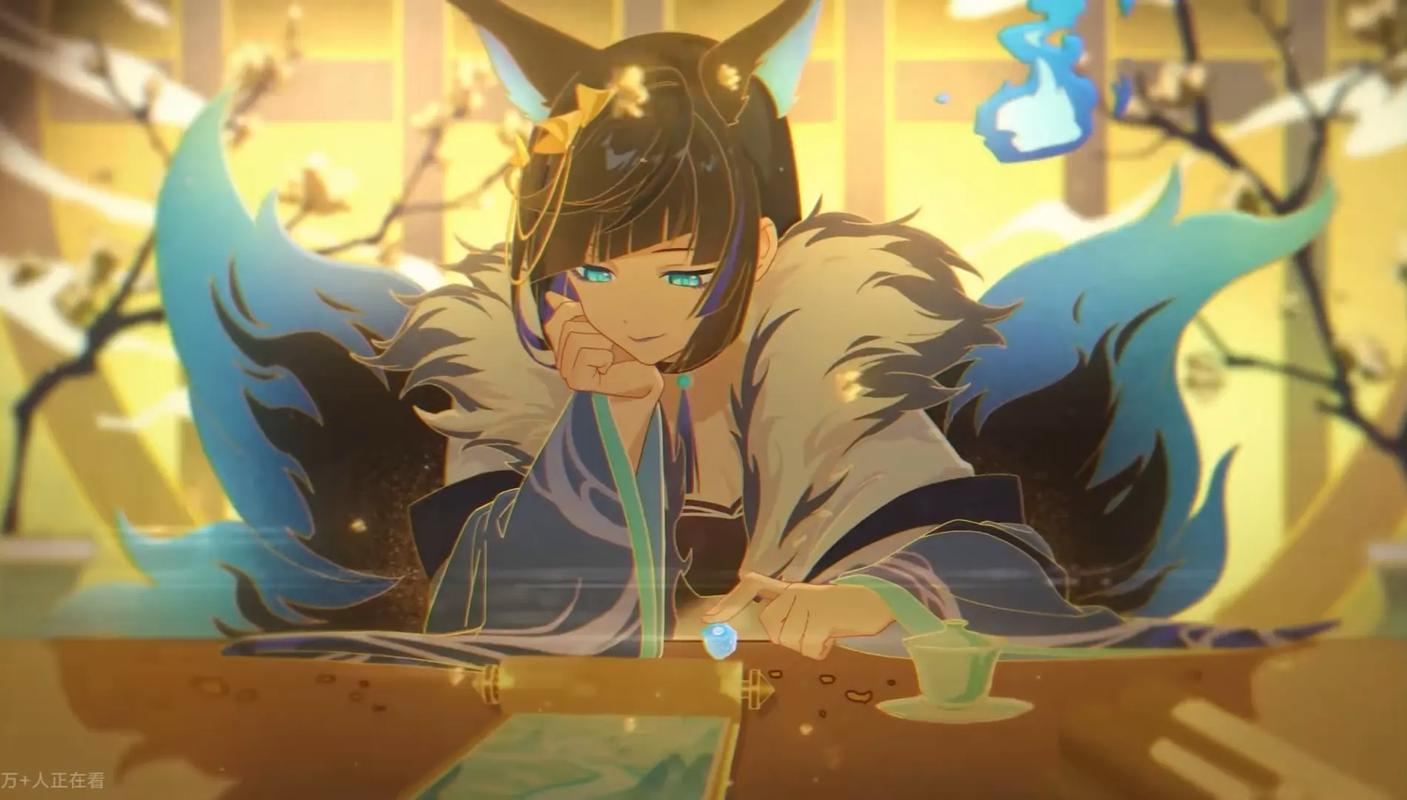夜兰: (404, 26, 1062, 670)
